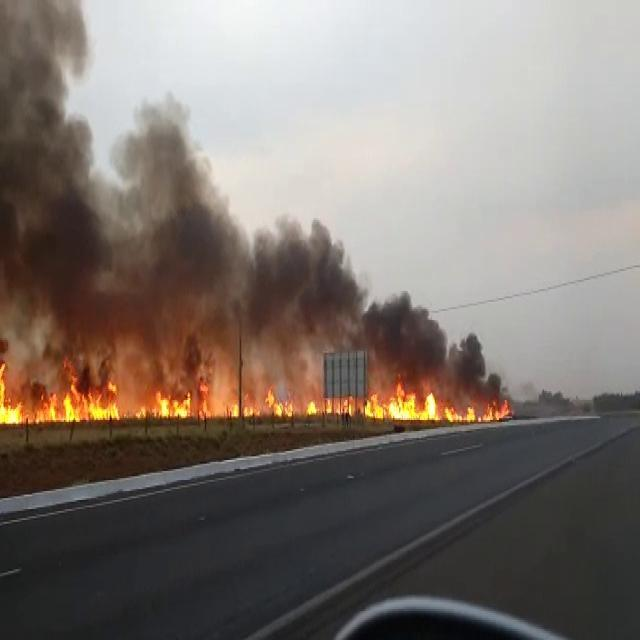Fire: (0, 358, 119, 423), (366, 383, 512, 422), (136, 357, 214, 418), (250, 388, 323, 418), (232, 404, 239, 417)
Smoke: (236, 218, 498, 383), (2, 1, 112, 355), (114, 96, 236, 355)
